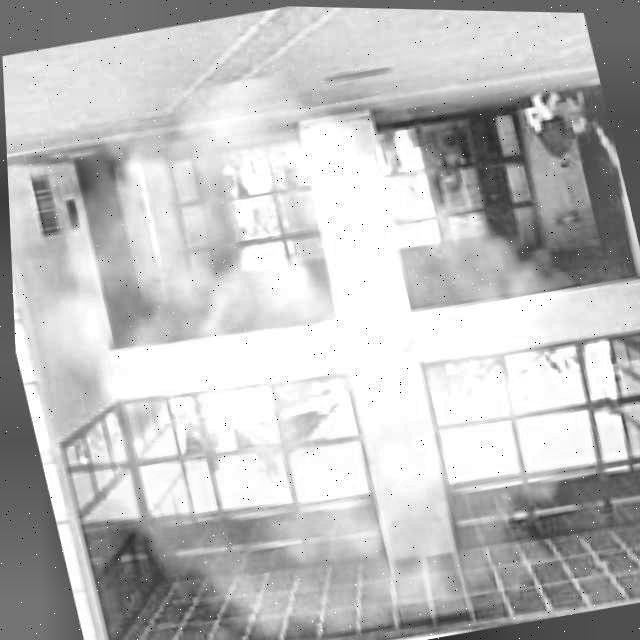Smoke: (4, 31, 640, 640)
